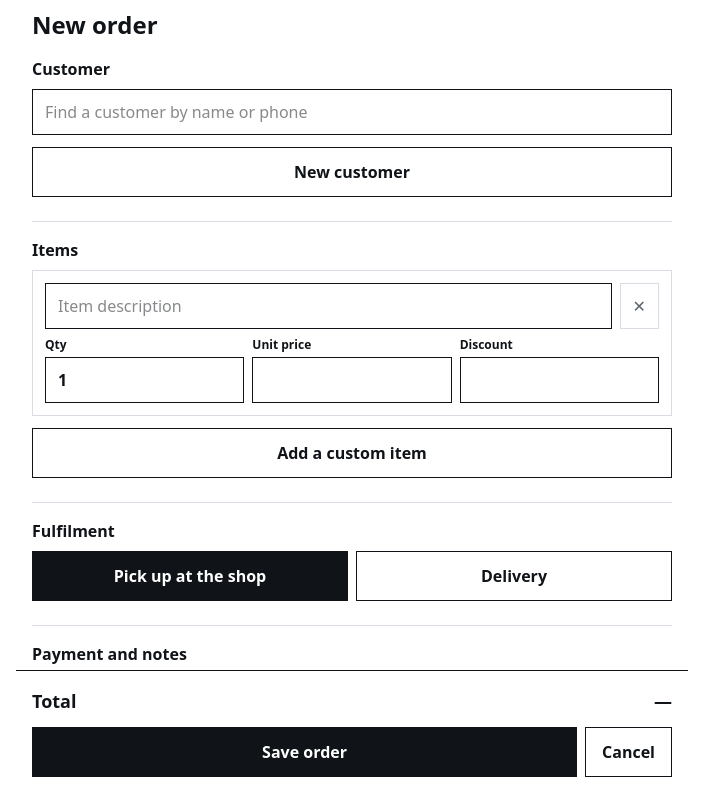
Test: new order screen › rejects a phone number that cannot be real
The image size is (705, 793).
Click the button "New customer" at (352, 172), box [32,147,672,197]
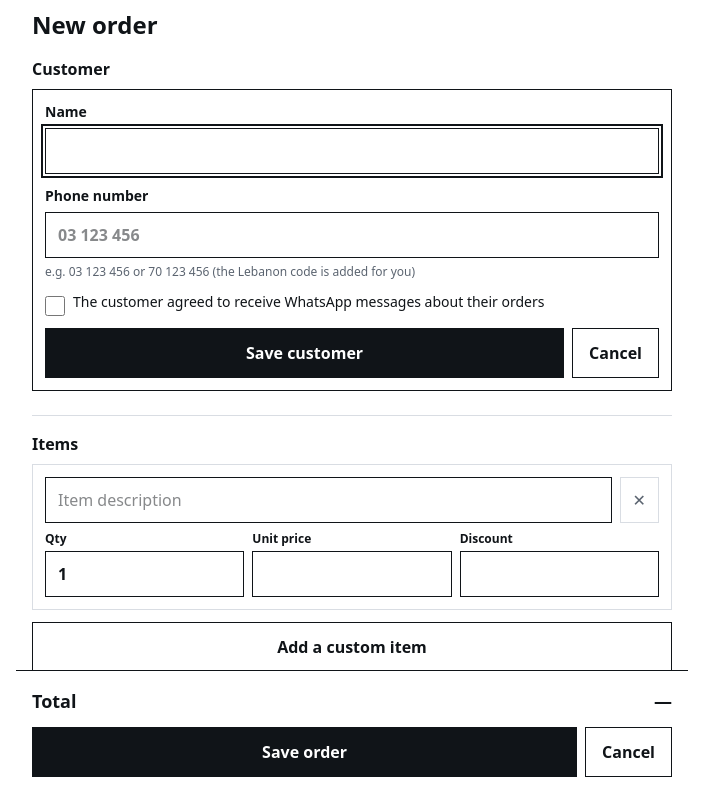
Type "X" into the field labelled "Name" at (352, 151), box [45,128,659,174]
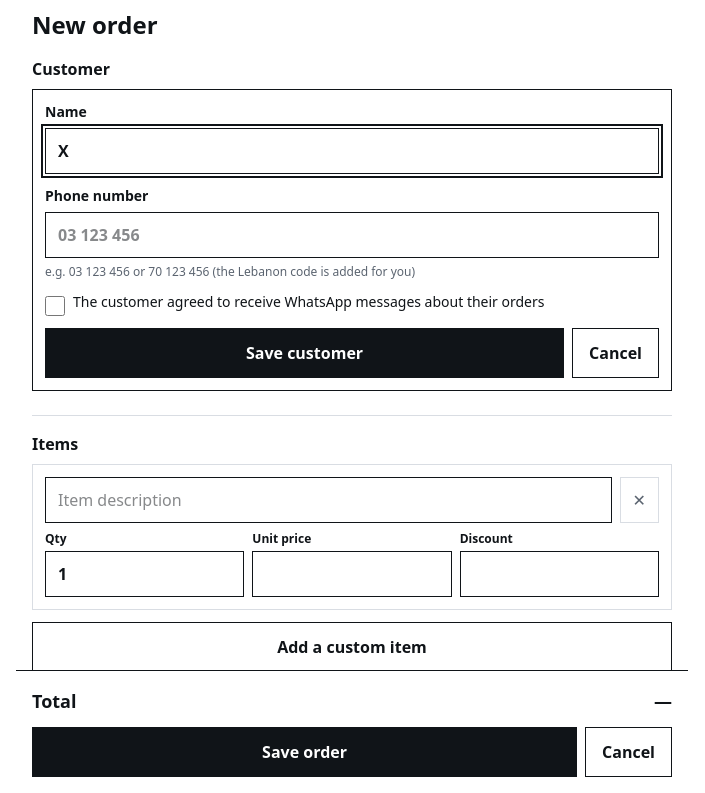
Type "12" into the field labelled "Phone number" at (352, 235), box [45,212,659,258]
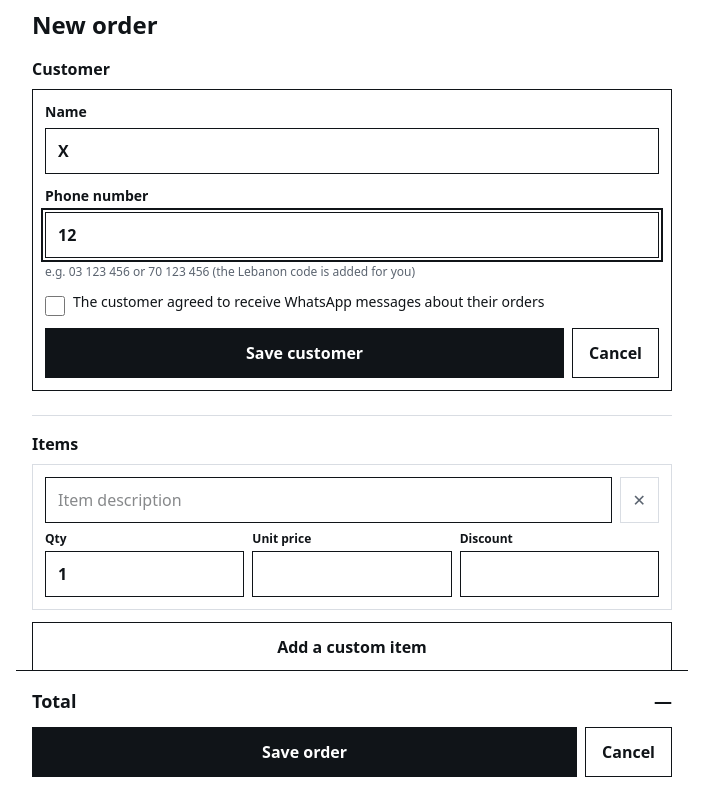
Click the button "Save customer" at (305, 353), box [45,328,564,378]
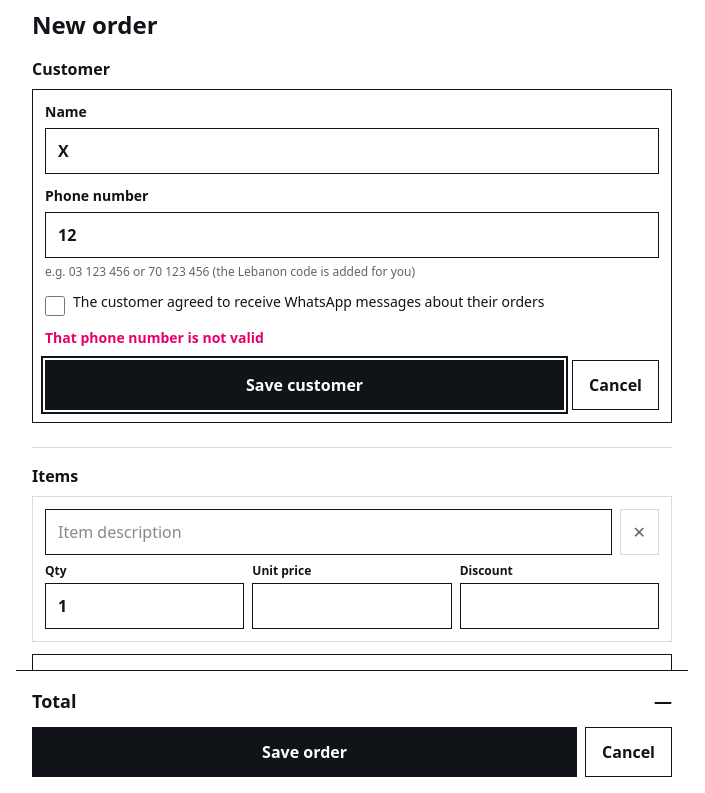
expect the message reads "That phone number is not valid": met, box [45,328,264,347]
